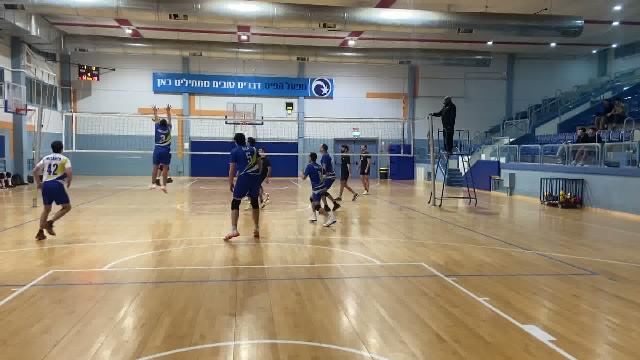ball: (151, 113, 158, 122)
